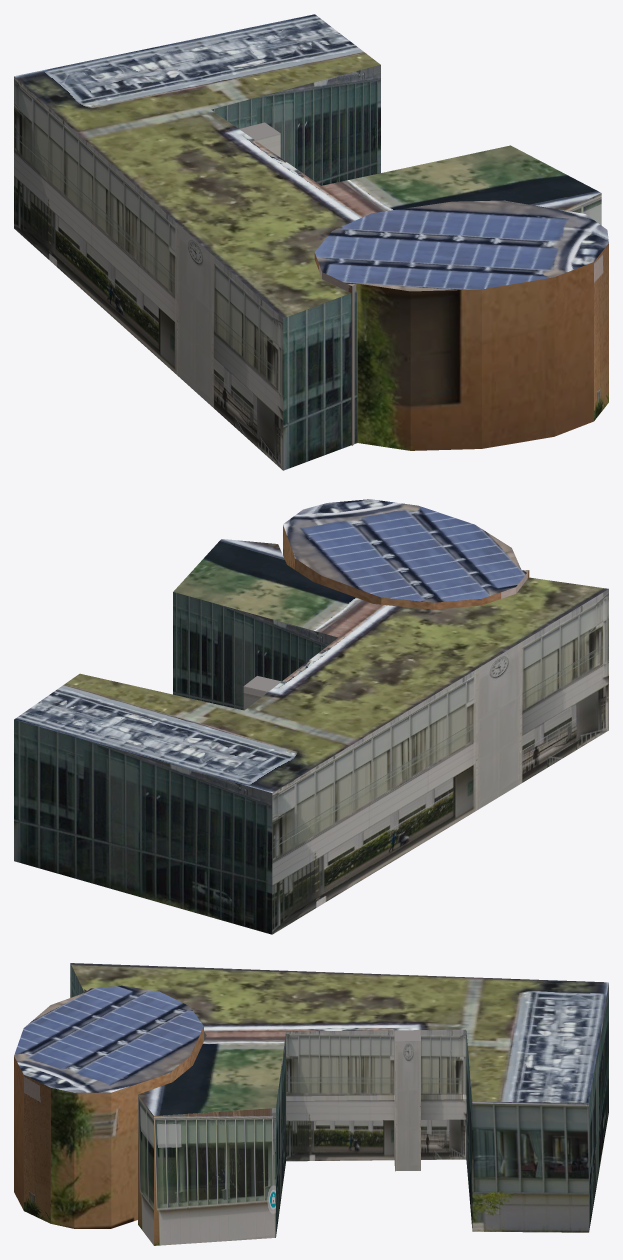
3 renders of one model, top to bottom at view 1: azimuth 30°, elevation 25°; view 2: azimuth 150°, elevation 25°; view 3: azimuth 270°, elevation 25°, orthographic. The views are drawn at different scales.
Visible parts, largest first — view 1: 宇治おうばくプラザ.003, 宇治おうばくプラザ.002; view 2: 宇治おうばくプラザ.003, 宇治おうばくプラザ.002; view 3: 宇治おうばくプラザ.003, 宇治おうばくプラザ.002.
Boxes of the visible parts, x1=… form: 宇治おうばくプラザ.003: x1=14, y1=14, x2=601, y2=470; 宇治おうばくプラザ.002: x1=314, y1=200, x2=608, y2=450; 宇治おうばくプラザ.003: x1=14, y1=539, x2=608, y2=934; 宇治おうばくプラザ.002: x1=283, y1=499, x2=529, y2=609; 宇治おうばくプラザ.003: x1=70, y1=963, x2=608, y2=1245; 宇治おうばくプラザ.002: x1=14, y1=985, x2=203, y2=1228.
Size of the model in its own units: 41.38 by 17.16 by 67.98.
Materials: 7 (7 with a texture image).
